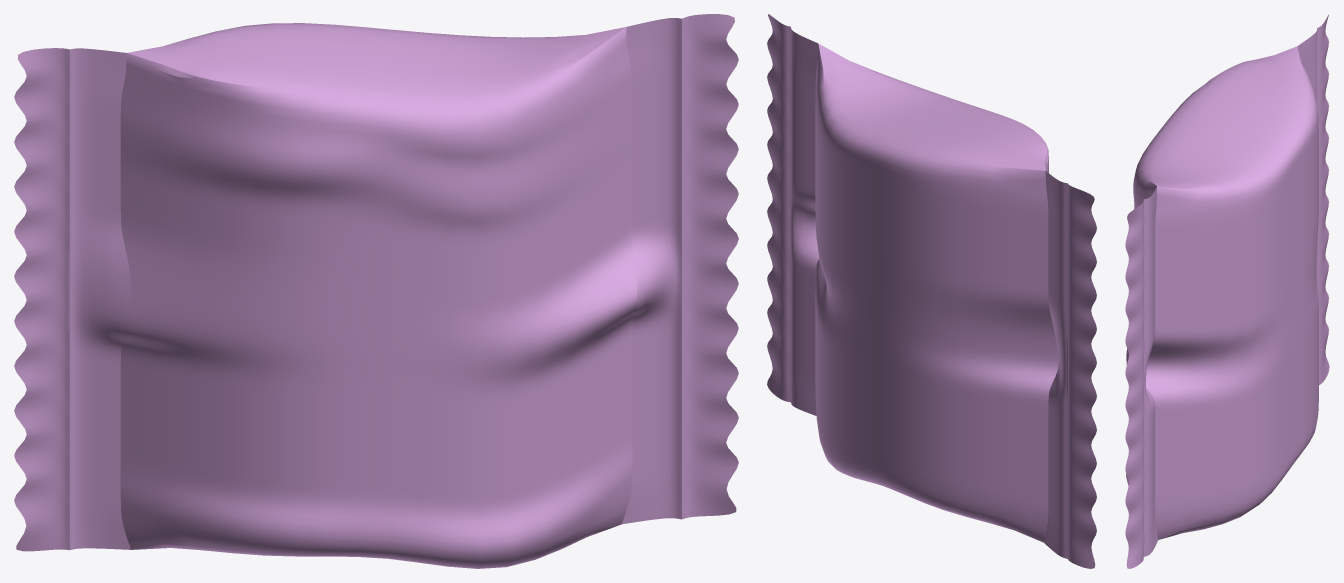
Rendered from candy crush paket.fbx.
3 renders of one model, left to right at view 1: azimuth 30°, elevation 25°; view 2: azimuth 150°, elevation 25°; view 3: azimuth 270°, elevation 25°, orthographic. The views are drawn at different scales.
Parts seen in each view (by area): view 1: Wrapper Purple; view 2: Wrapper Purple; view 3: Wrapper Purple.
Part boxes in pixels (x1,y1,x2,y2): Wrapper Purple: [14, 14, 738, 568]; Wrapper Purple: [767, 14, 1096, 568]; Wrapper Purple: [1125, 14, 1329, 568].
Size of the model in its own units: 76.48 by 64.75 by 32.52.
